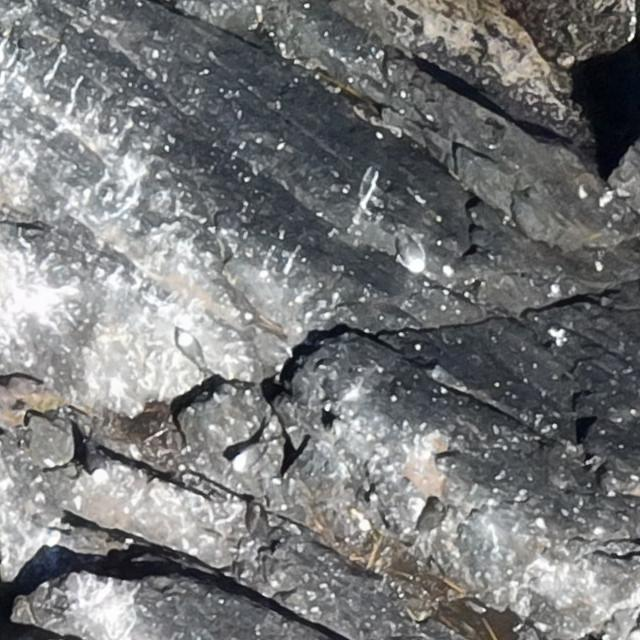umineko: (394, 228, 428, 274), (83, 438, 111, 486), (232, 444, 261, 469), (178, 334, 196, 361)
